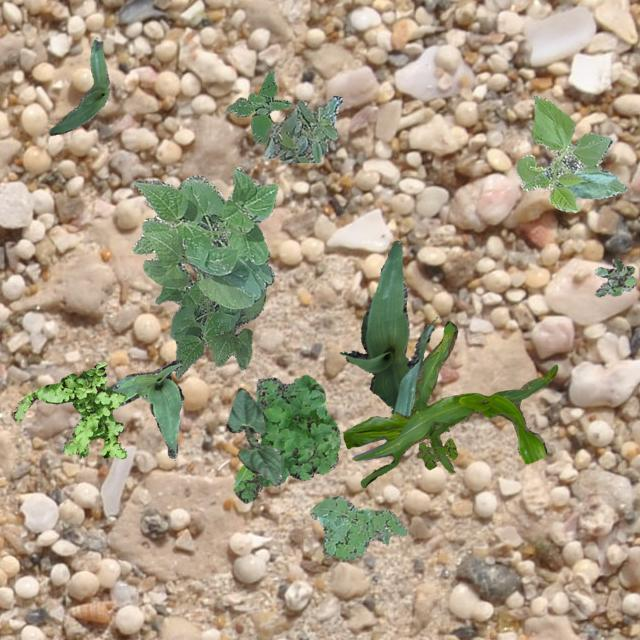crop: (342, 319, 556, 486), (132, 165, 276, 308), (340, 240, 432, 416), (514, 95, 626, 212), (59, 358, 182, 458), (154, 276, 264, 378), (48, 39, 108, 134), (226, 386, 280, 484)
weed: (232, 374, 340, 502), (10, 360, 126, 458), (308, 494, 406, 560), (252, 95, 342, 162), (224, 70, 290, 140), (594, 258, 634, 296), (416, 438, 456, 468)
